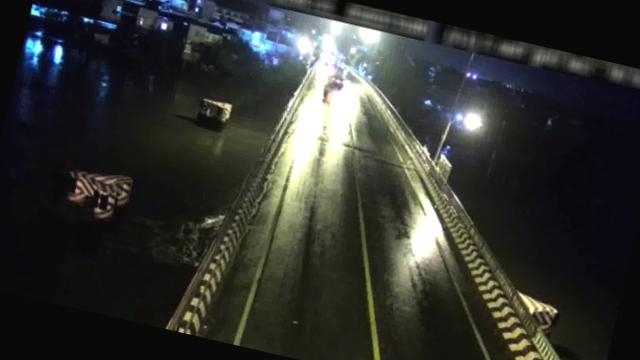Bike: (322, 80, 335, 99)
